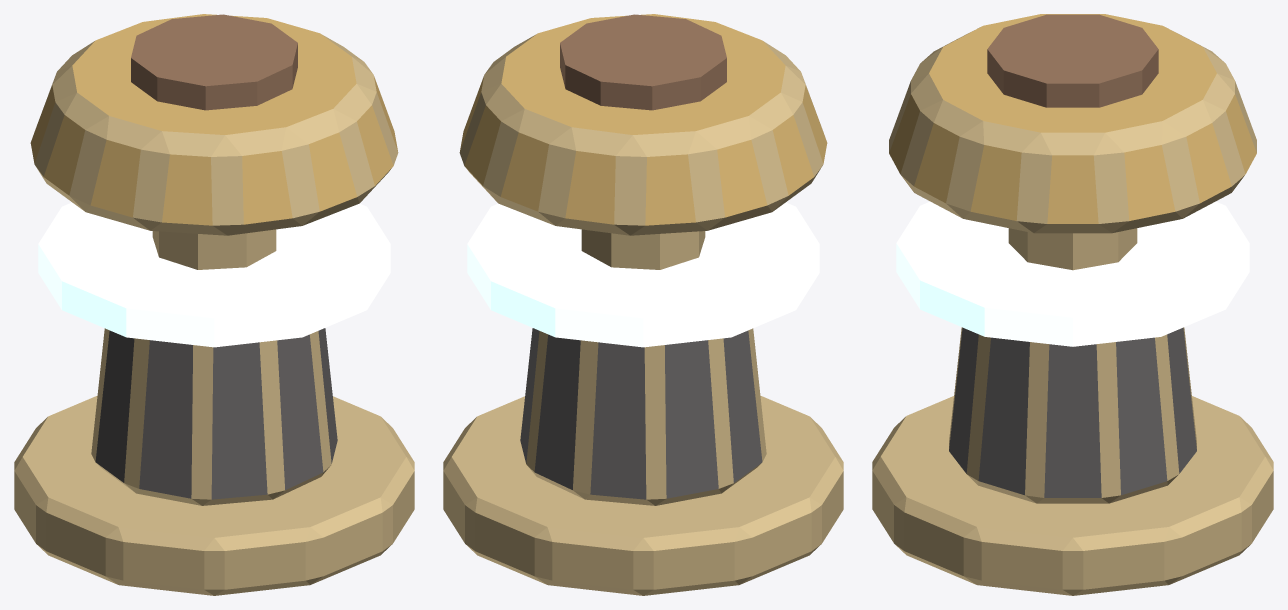
Rendered from Test_Plunger.fbx.
3 views of the same model, side by side, from view 1: azimuth 30°, elevation 25°; view 2: azimuth 150°, elevation 25°; view 3: azimuth 270°, elevation 25° (orthographic).
Visible parts, largest first — view 1: Test_Plunger, Moving.018; view 2: Test_Plunger, Moving.018; view 3: Test_Plunger, Moving.018.
Part boxes in pixels (x1=…): Test_Plunger: x1=14, y1=202, x2=414, y2=595; Moving.018: x1=30, y1=14, x2=398, y2=269; Test_Plunger: x1=443, y1=202, x2=843, y2=595; Moving.018: x1=459, y1=14, x2=827, y2=269; Test_Plunger: x1=872, y1=201, x2=1273, y2=595; Moving.018: x1=889, y1=14, x2=1256, y2=270.
Size of the model in its own units: 0.7496 by 0.96 by 0.7496.
